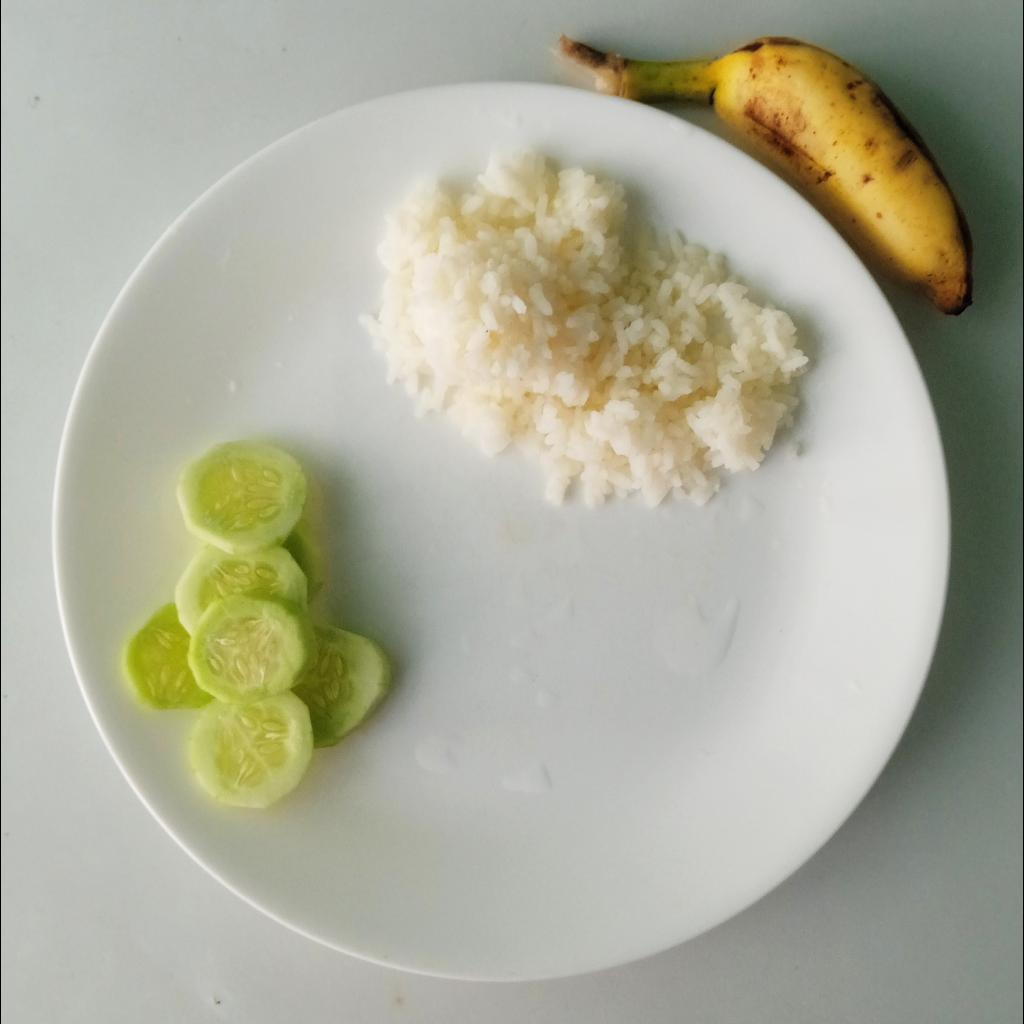banana: (623, 32, 976, 320)
cucumber: (122, 436, 393, 808)
rice: (361, 144, 820, 507)
